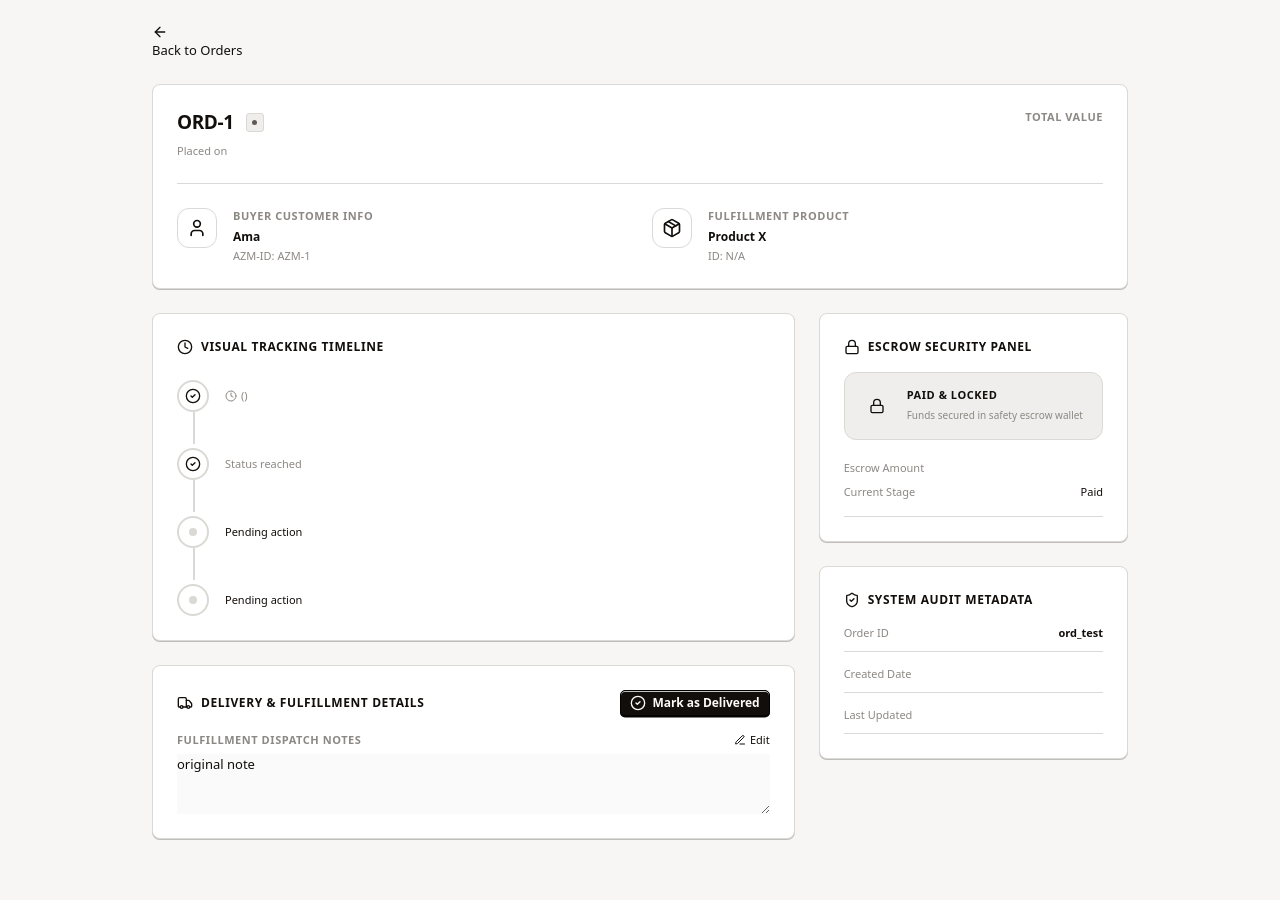
Test: OrderDetail — delivered/notes contract (backend: PATCH /orders/:id/delivered) › PAID order: notes are editable and the save action is honestly labeled as the delivered transition
The image size is (1280, 900).
expect the text "Product X" is shown: met, box [708,228,766,245]
Editing is offered, and the save action names the real transition.
Click the button "Edit" at (752, 740), box [734,732,770,748]
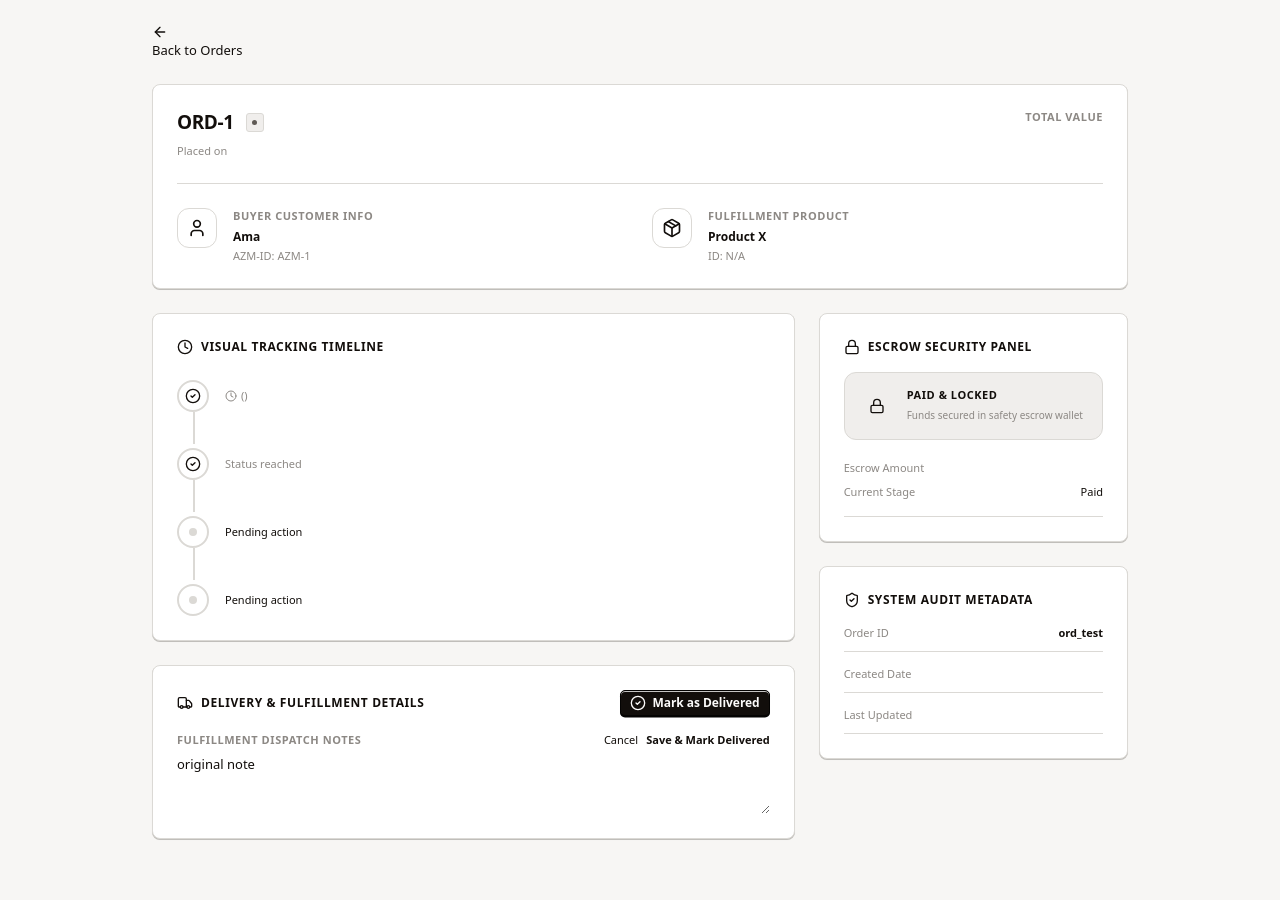
expect the text box with placeholder "Enter courier, tracking link, dispatch timestamps, etc." is enabled: met, box [177,754,770,814]
expect the button "Save & Mark Delivered" is shown: met, box [646,732,770,748]
